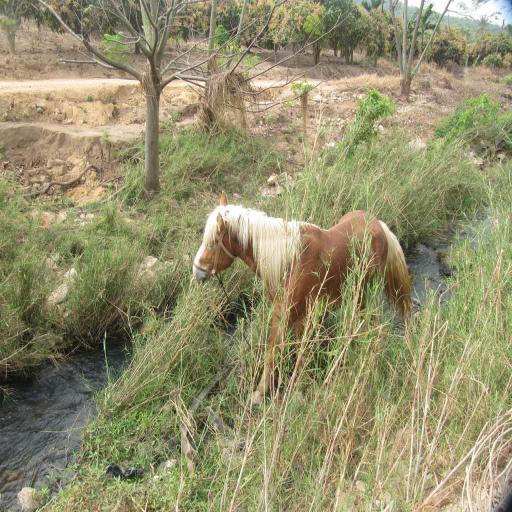horse: (194, 191, 414, 400)
